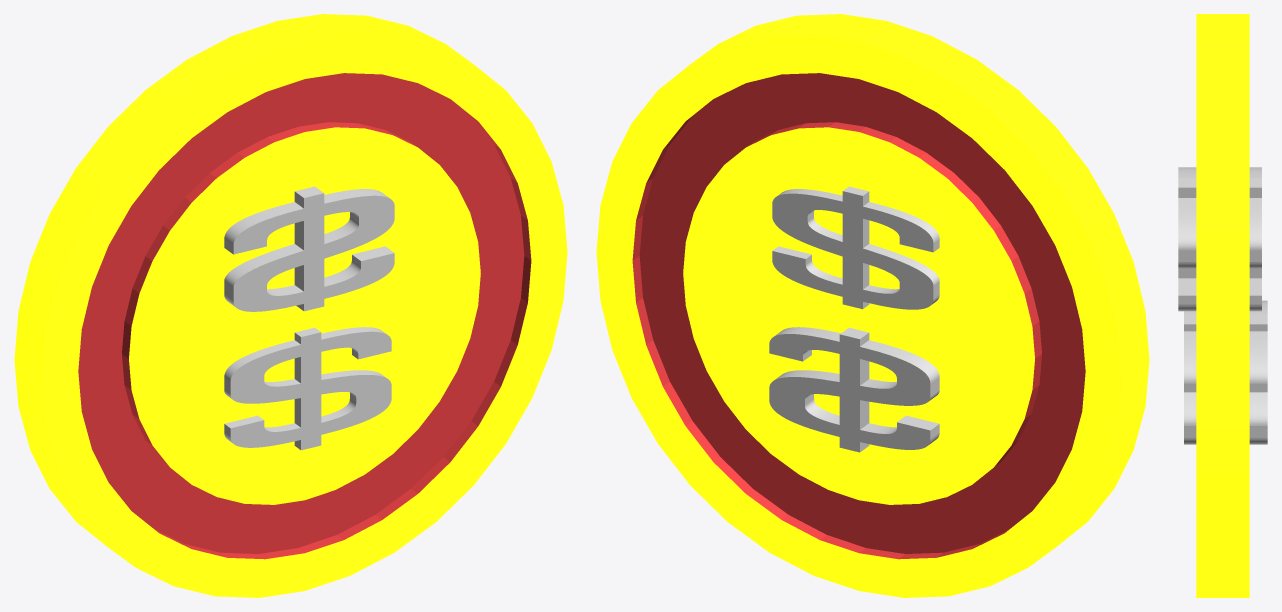
The model's file is Coin.fbx.
3 views of the same model, side by side, from view 1: azimuth 30°, elevation 25°; view 2: azimuth 150°, elevation 25°; view 3: azimuth 270°, elevation 25° (orthographic). The views are drawn at different scales.
Visible parts, largest first — view 1: Объект_Труба, Объект_Труба_2, Шапка_1, Шапка_2_2, Сплайн_Текст_2, Сплайн_Текст; view 2: Объект_Труба_2, Объект_Труба, Шапка_1_2, Шапка_2, Сплайн_Текст, Сплайн_Текст_2; view 3: Объект_Труба, Объект_Труба_2, Сплайн_Текст_2, Сплайн_Текст.
Boxes of the visible parts, <box> form: Объект_Труба: <box>21,19,567,597</box>; Объект_Труба_2: <box>14,14,451,560</box>; Шапка_1: <box>230,331,391,450</box>; Шапка_2_2: <box>233,193,394,311</box>; Сплайн_Текст_2: <box>224,186,393,310</box>; Сплайн_Текст: <box>224,327,385,449</box>; Объект_Труба_2: <box>596,19,1142,597</box>; Объект_Труба: <box>712,14,1149,549</box>; Шапка_1_2: <box>772,191,933,309</box>; Шапка_2: <box>769,334,930,452</box>; Сплайн_Текст: <box>774,327,939,452</box>; Сплайн_Текст_2: <box>772,186,939,308</box>; Объект_Труба: <box>1196,14,1236,597</box>; Объект_Труба_2: <box>1209,14,1249,597</box>; Сплайн_Текст_2: <box>1178,167,1261,311</box>; Сплайн_Текст: <box>1184,300,1267,444</box>.
Bounding box in the file's own units: 100 × 100 × 15.23.
